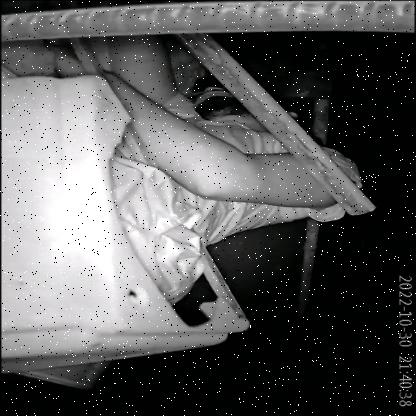hand: (104, 78, 360, 220)
